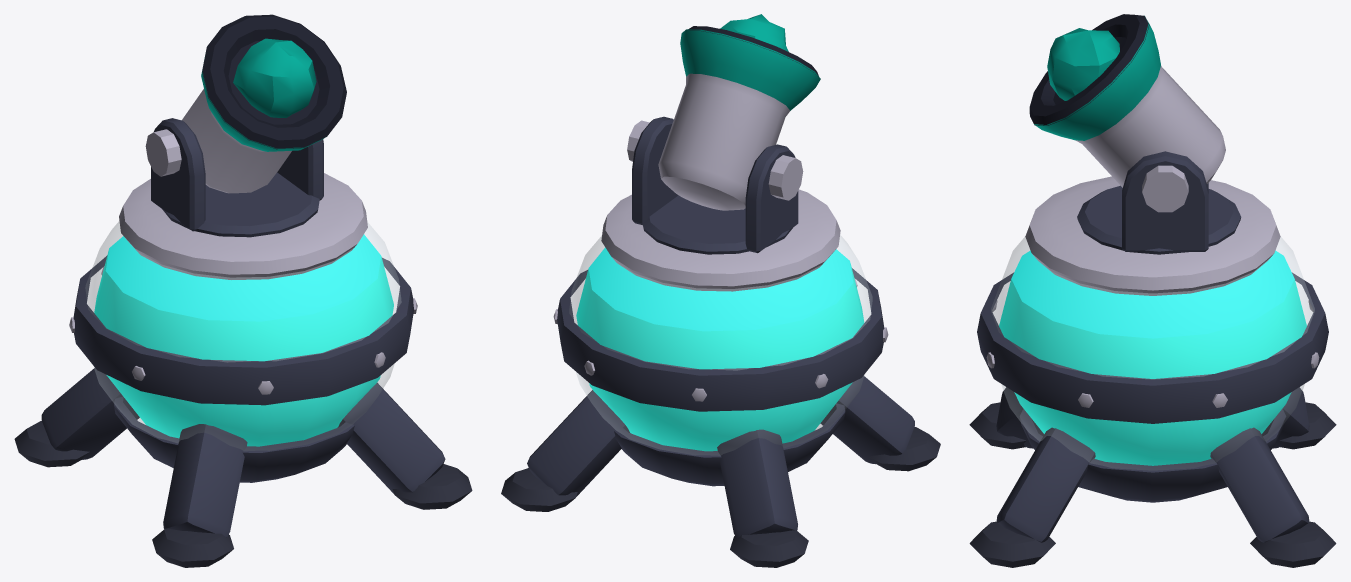
File: enemy_blotter.glb
3 renders of one model, left to right at view 1: azimuth 30°, elevation 25°; view 2: azimuth 150°, elevation 25°; view 3: azimuth 270°, elevation 25°, orthographic. The views are drawn at different scales.
Visible parts, largest first — view 1: Tank, Fill, Legs, Band, Mortar, Lid, Yoke, Turntable, Cup, Glob, Rivets; view 2: Tank, Fill, Legs, Mortar, Band, Lid, Yoke, Cup, Turntable, Glob, Rivets; view 3: Tank, Fill, Legs, Band, Mortar, Lid, Yoke, Cup, Turntable, Glob, Rivets.
Part boxes in pixels (x1,y1,x2,y2): Tank: (85,221,401,450); Fill: (94,234,393,446); Legs: (14,368,472,567); Band: (73,255,413,405); Mortar: (182,14,346,193); Lid: (119,173,367,279); Yoke: (145,118,323,231); Turntable: (162,172,319,237); Cup: (114,396,354,482); Glob: (233,38,316,117); Rivets: (69,266,417,394); Tank: (569,235,872,455); Fill: (576,247,864,451); Legs: (501,375,940,567); Mortar: (658,26,820,210); Band: (557,268,884,411); Lid: (601,189,840,291); Yoke: (627,116,803,253); Cup: (614,403,845,486); Turntable: (642,195,792,254); Glob: (720,14,788,51); Rivets: (553,278,888,401); Tank: (991,237,1314,470); Fill: (999,250,1306,465); Legs: (969,387,1336,567); Band: (977,272,1328,423); Mortar: (1029,14,1225,187); Lid: (1025,176,1280,295); Yoke: (1122,151,1208,251); Cup: (1019,409,1286,502); Turntable: (1077,185,1241,254); Glob: (1047,28,1119,100); Rivets: (986,300,1319,407).
Bounding box in the file's own units: 1.19 × 1.7 × 1.19.
